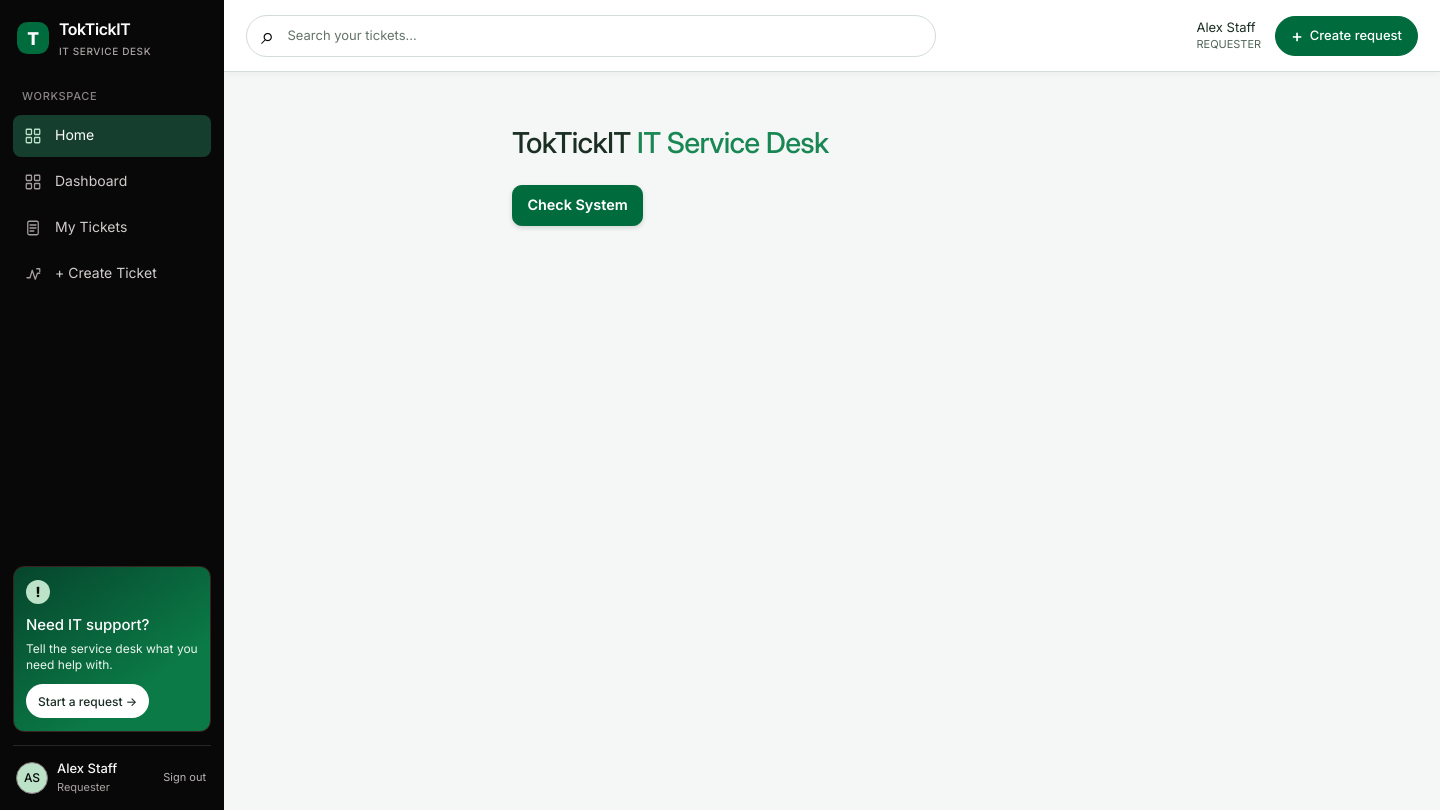
Test case: Responsive operations workspace › keeps requester search ownership-scoped and omits staff/admin navigation
Check: the button "Check System" is shown, box [512, 184, 643, 226]
Step 1. Type "printer" into the search field named "Search all your tickets" → (603, 36), box [286, 25, 921, 46]
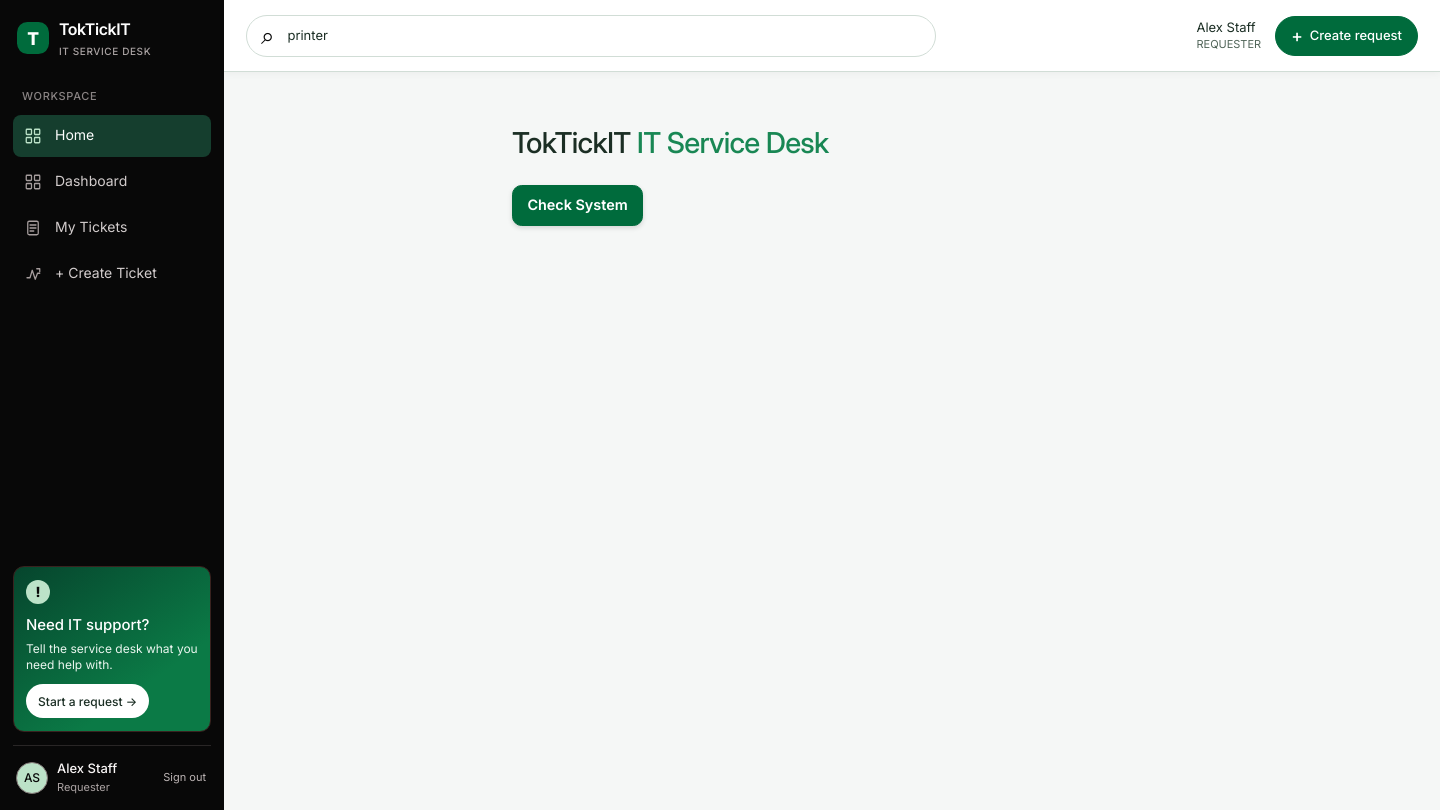
Step 2. Submit the form named "Search all your tickets", box [246, 14, 936, 56]
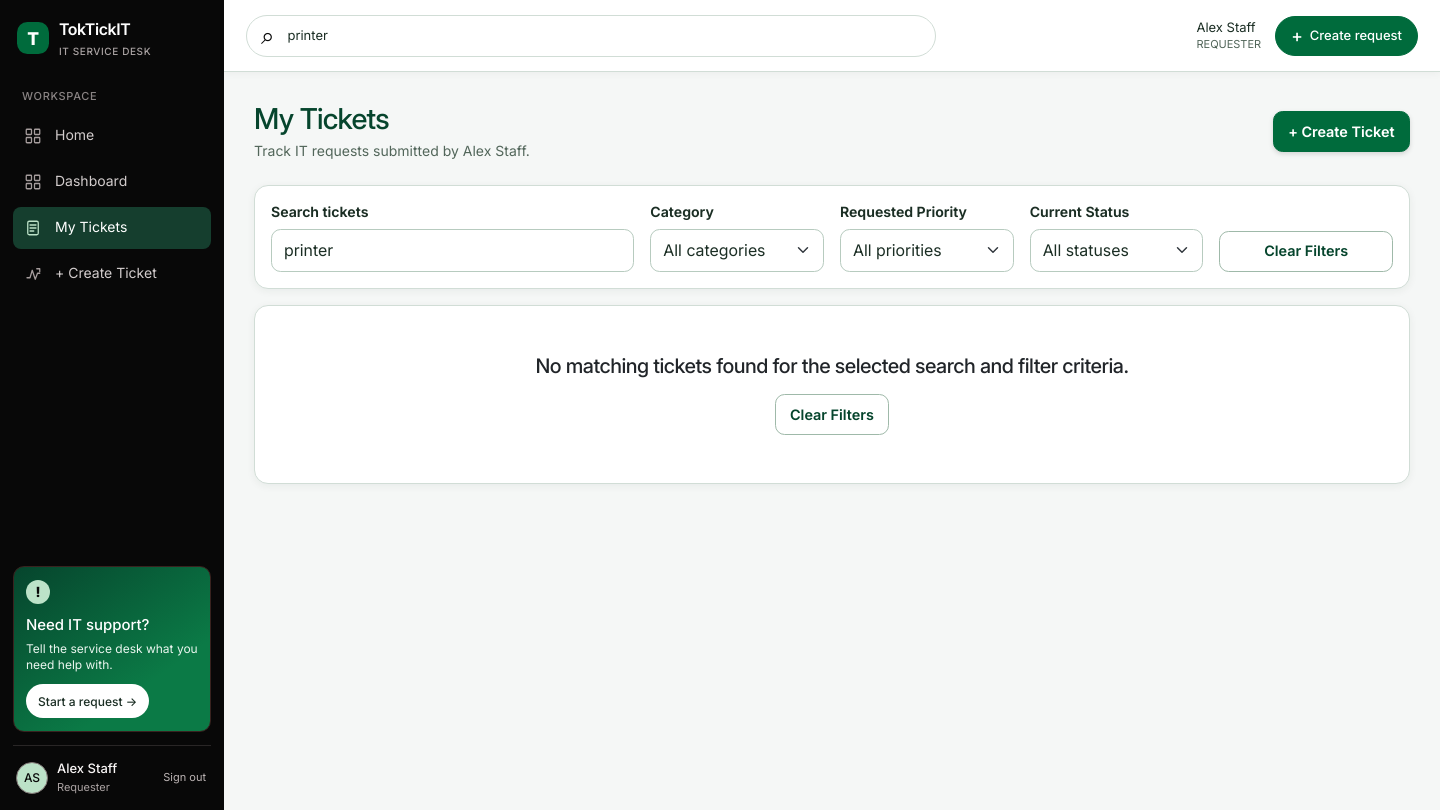
Check: the field labelled "Search tickets" holds "printer", box [271, 229, 634, 272]
Step 3. Replace the text in the search field named "Search all your tickets" with "VPN" → (603, 36), box [286, 25, 921, 46]
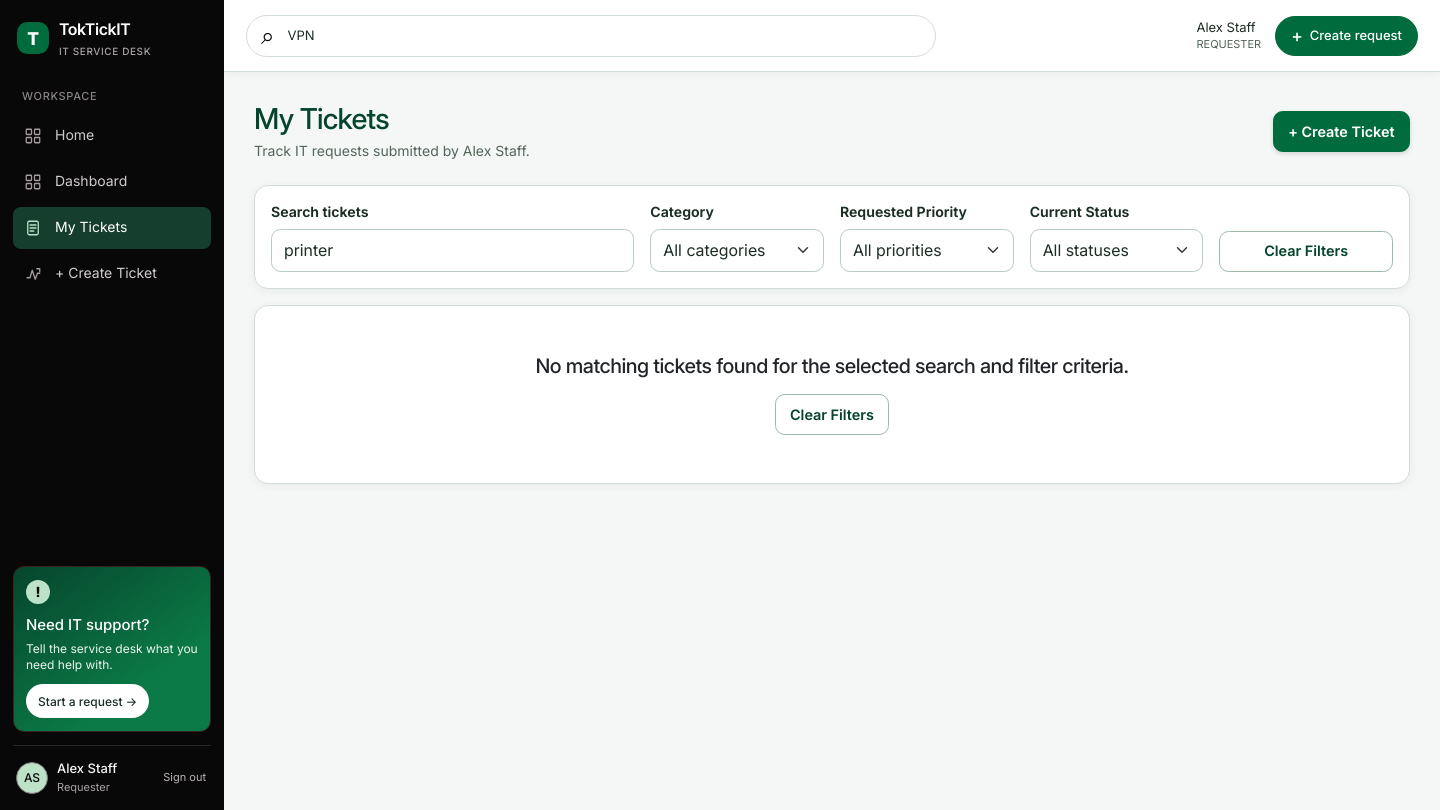
Step 4. Submit the form named "Search all your tickets", box [246, 14, 936, 56]
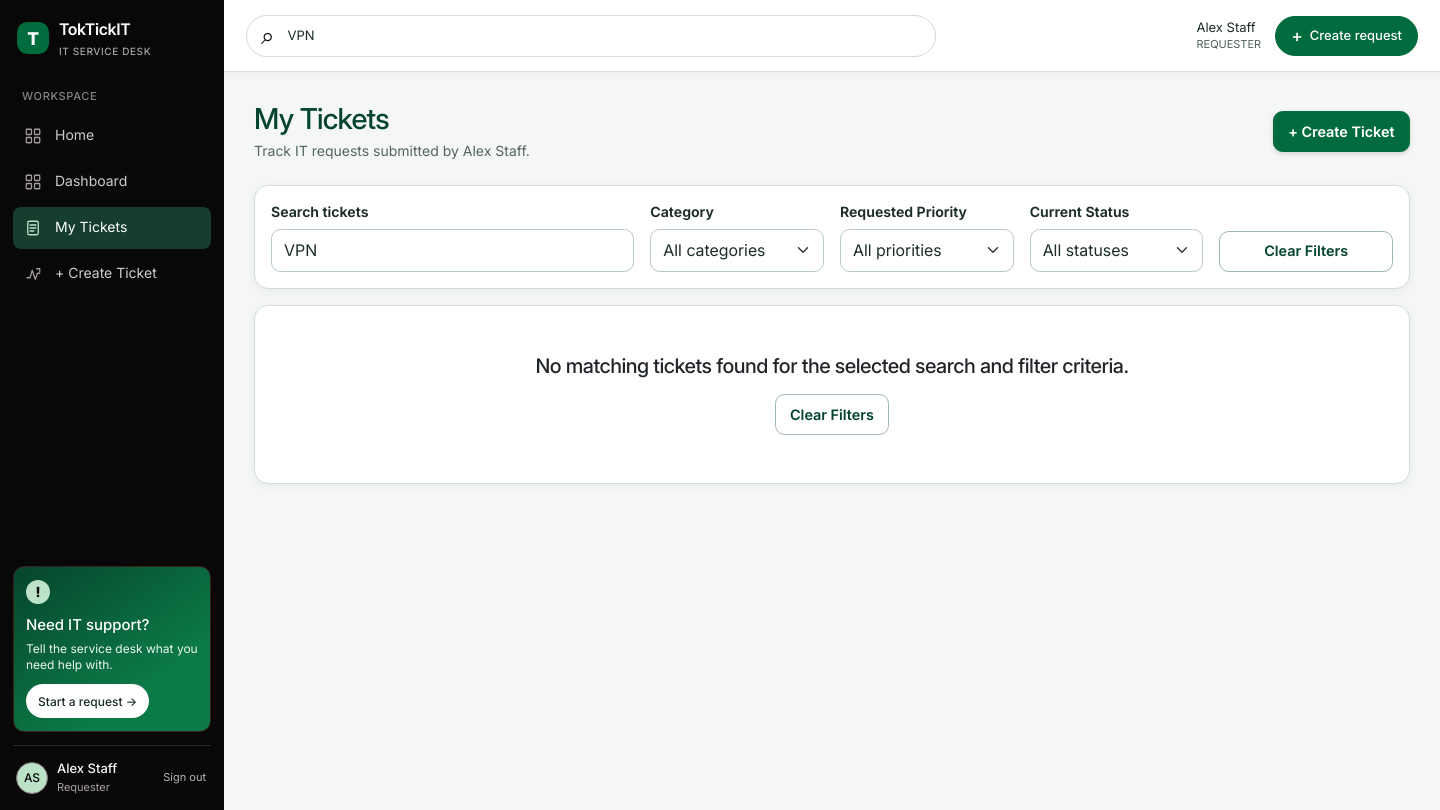
Check: the field labelled "Search tickets" holds "VPN", box [271, 229, 634, 272]
